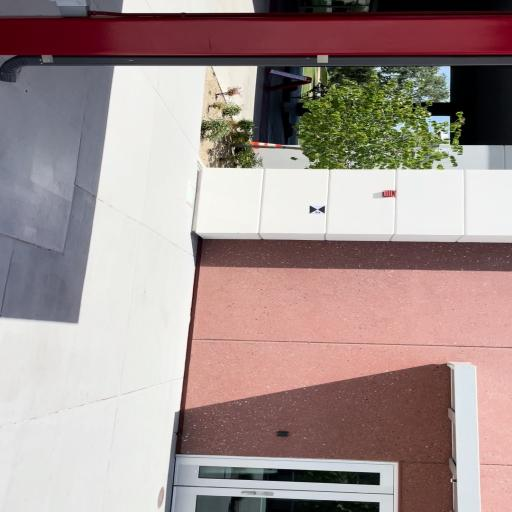target2: (309, 204, 325, 214)
